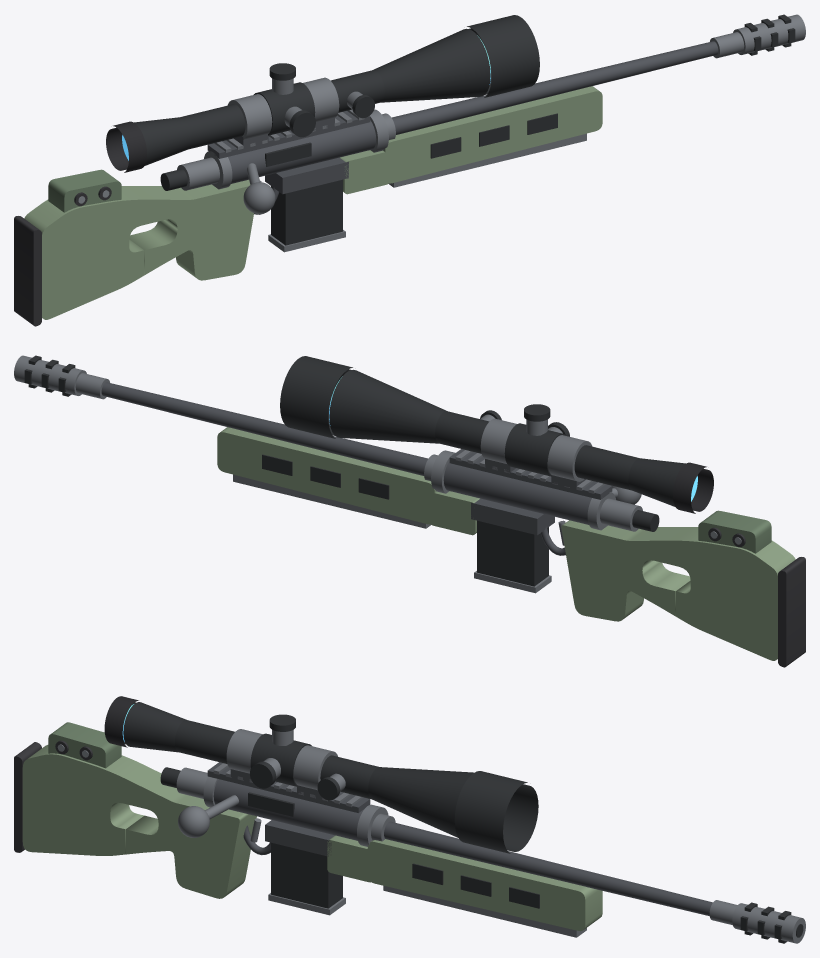
The model's file is awp.glb.
3 views of the same model, one above another, from view 1: azimuth 30°, elevation 25°; view 2: azimuth 150°, elevation 25°; view 3: azimuth 330°, elevation 25° (orthographic).
Parts seen in each view (by area): view 1: awp_style; view 2: awp_style; view 3: awp_style.
Boxes of the visible parts, x1,y1,x2,y2 form: awp_style: [14, 14, 805, 326]; awp_style: [14, 355, 805, 667]; awp_style: [14, 696, 805, 943].
Size of the model in its own units: 1.28 by 0.2972 by 0.1699.
